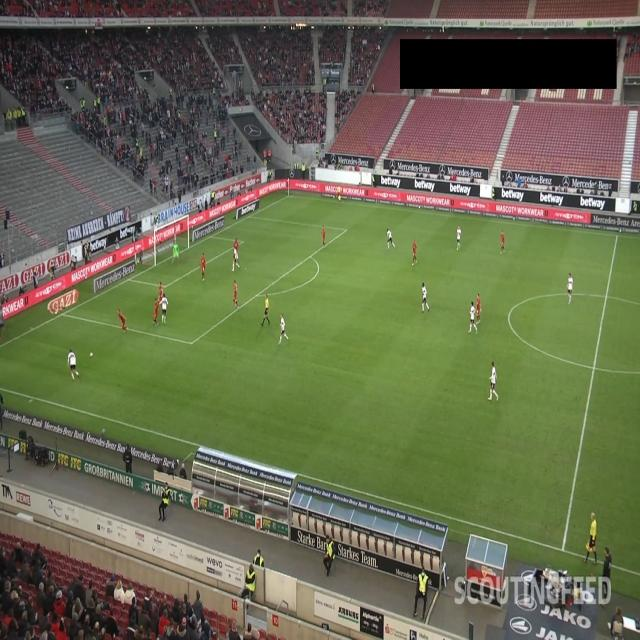ball: (87, 349, 96, 361)
f_player: (467, 293, 481, 333), (153, 291, 169, 325), (488, 360, 500, 402), (230, 238, 242, 270), (66, 352, 77, 382), (261, 298, 272, 327), (278, 312, 288, 342), (567, 274, 576, 306), (419, 284, 429, 312), (199, 255, 208, 281), (118, 308, 128, 331), (410, 240, 419, 264), (232, 282, 240, 309), (172, 241, 181, 264), (501, 230, 508, 255), (455, 226, 462, 251), (386, 229, 394, 250), (320, 226, 328, 247)
umpire: (586, 510, 598, 566), (261, 298, 272, 327)
